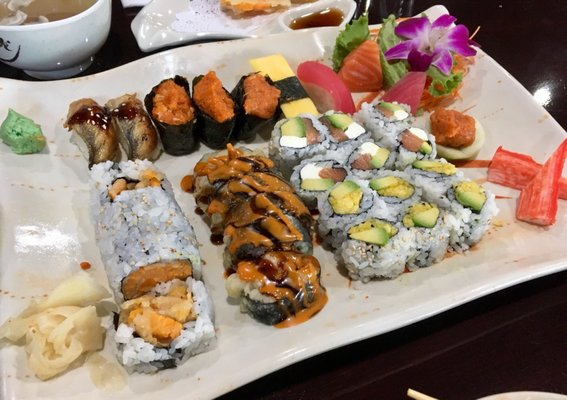sushi: (0, 0, 113, 79)
